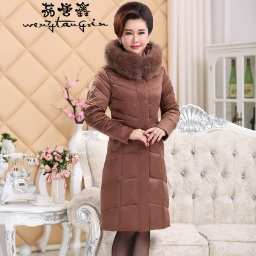face: (105, 3, 157, 54)
